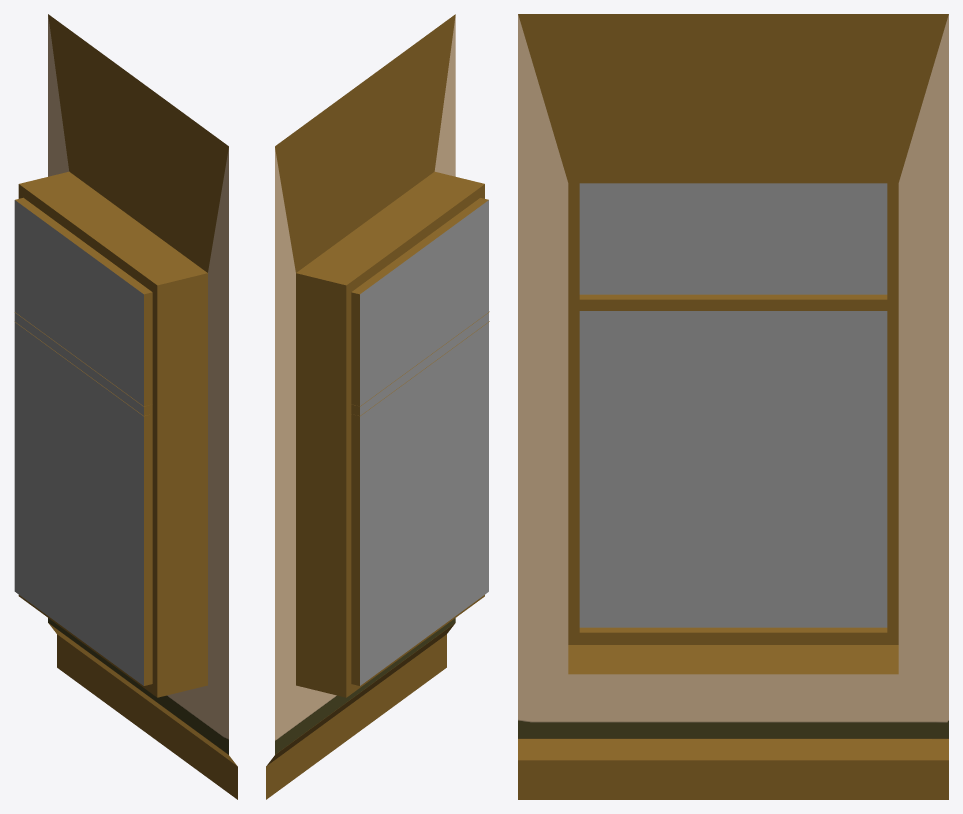
File: window.fbx
3 views of the same model, side by side, from view 1: azimuth 30°, elevation 25°; view 2: azimuth 150°, elevation 25°; view 3: azimuth 270°, elevation 25° (orthographic). The views are drawn at different scales.
Parts seen in each view (by area): view 1: Beige_Wall_Window; view 2: Beige_Wall_Window; view 3: Beige_Wall_Window.
Part boxes in pixels (x1,y1,x2,y2): Beige_Wall_Window: (14, 14, 237, 799); Beige_Wall_Window: (266, 14, 489, 799); Beige_Wall_Window: (518, 14, 948, 799).
Bounding box in the file's own units: 43.76 × 400 × 200.
2 materials, 1 textured.
